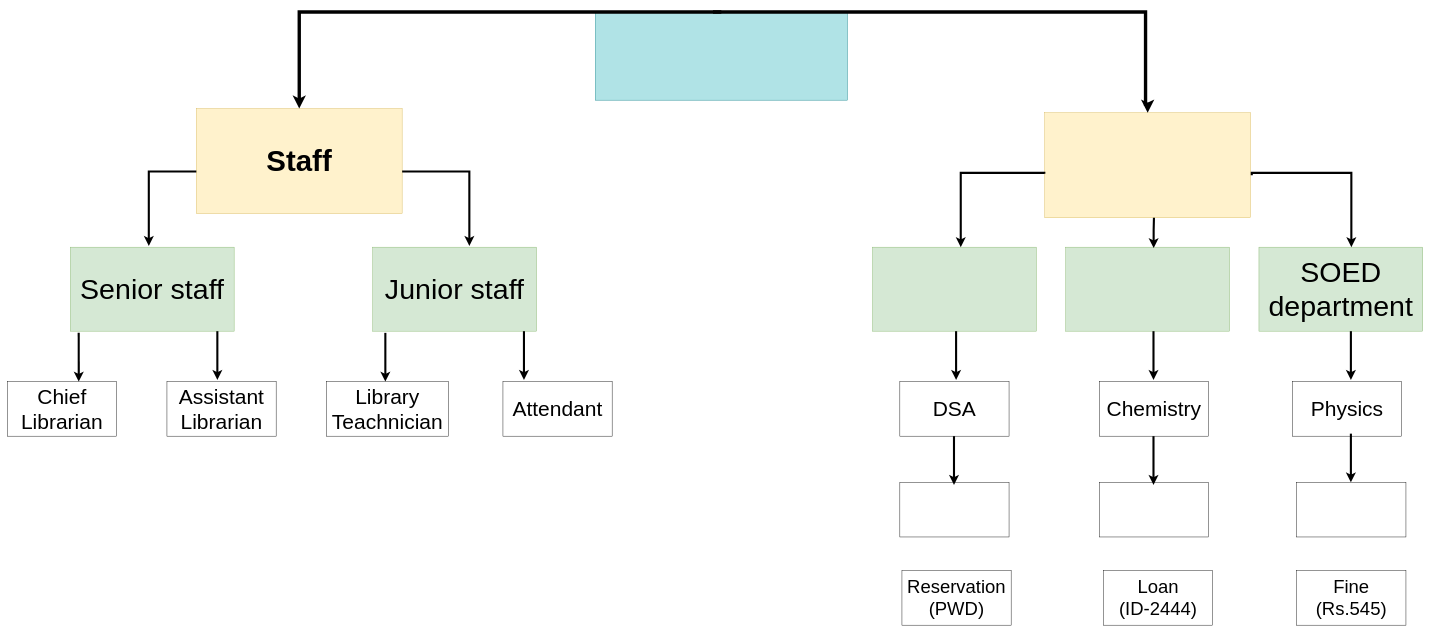
The diagram is 1430 pixels wide and 633 high, and some of its shapes have lost their labels. Each missing label, with the centre of its shape:
Library: pixel 721 56
SOBAS department: pixel 1147 289
SOET department: pixel 954 289
Student 1 (2020): pixel 954 509
Student 2 (2022): pixel 1154 509
Student 3 (2024): pixel 1351 509
Students: pixel 1147 165
